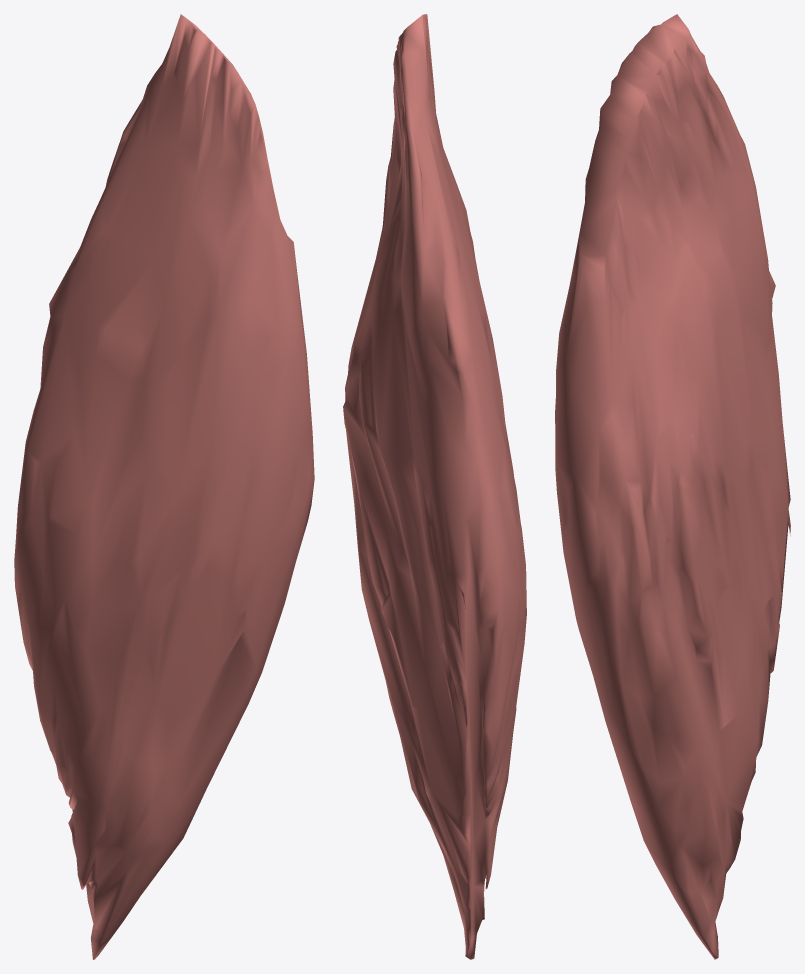
The picture shows the model from 3 angles, left to right: view 1: azimuth 30°, elevation 25°; view 2: azimuth 150°, elevation 25°; view 3: azimuth 270°, elevation 25°; orthographic projection. The views are drawn at different scales.
Parts seen in each view (by area): view 1: ZA_a135c9b4e2fabb86; view 2: ZA_a135c9b4e2fabb86; view 3: ZA_a135c9b4e2fabb86.
Part boxes in pixels (x1=…): ZA_a135c9b4e2fabb86: x1=14, y1=14, x2=314, y2=959; ZA_a135c9b4e2fabb86: x1=343, y1=14, x2=526, y2=959; ZA_a135c9b4e2fabb86: x1=555, y1=14, x2=790, y2=959.
Bounding box in the file's own units: 0.0391 × 0.1615 × 0.0352.
